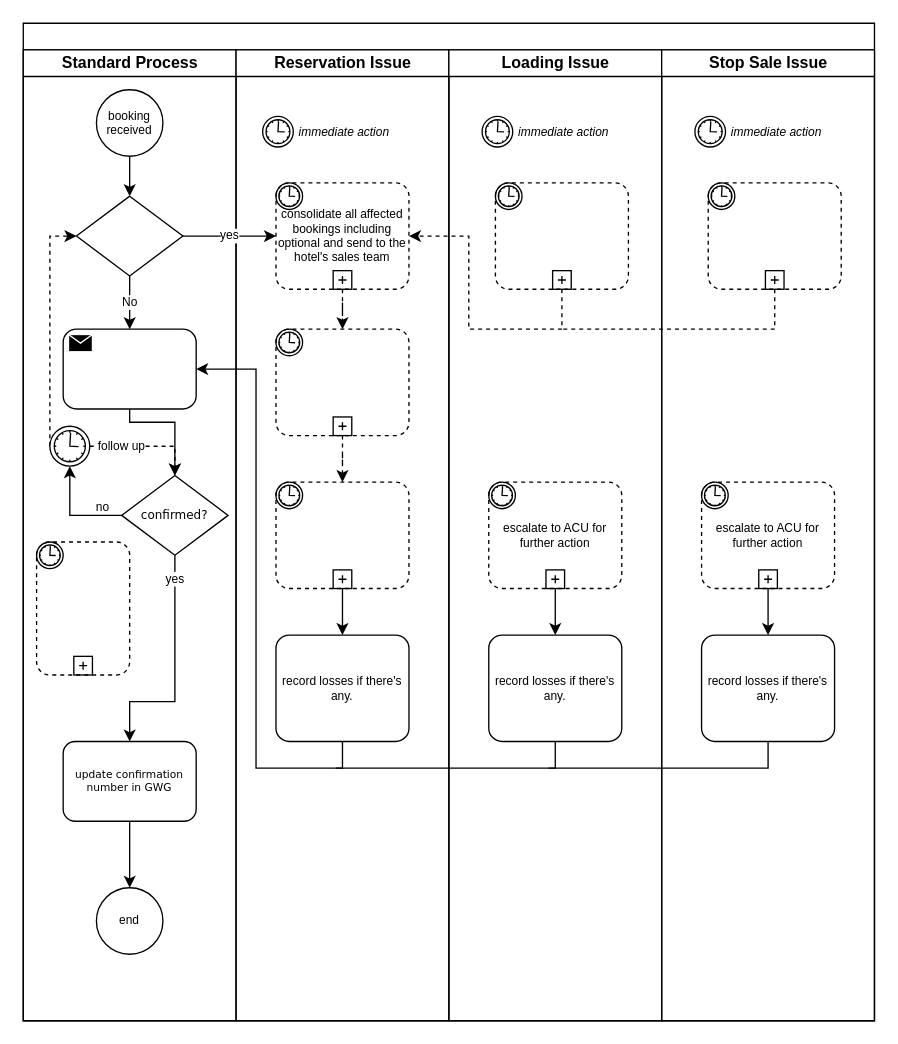
The diagram is 898 pixels wide and 1044 high, and some of its shapes have lost their labels. Here are the shapes that lost their labels. From the top down, the centre of each, then its label:
At point (129, 235): "issue?".
At point (561, 235): "inform loading team of the issue to update the system and stop the bleeding".
At point (774, 235): "inform stop sale team of the issue to update the system and stop the bleeding".
At point (129, 368): "report booking to the hotel".
At point (342, 382): "escalate to team leader for further action".
At point (69, 445): "24 hrs.".
At point (342, 535): "escalate to reservations manager for further action".
At point (82, 608): "call the hotel in the event of no confirmation after two follow up emails.".
